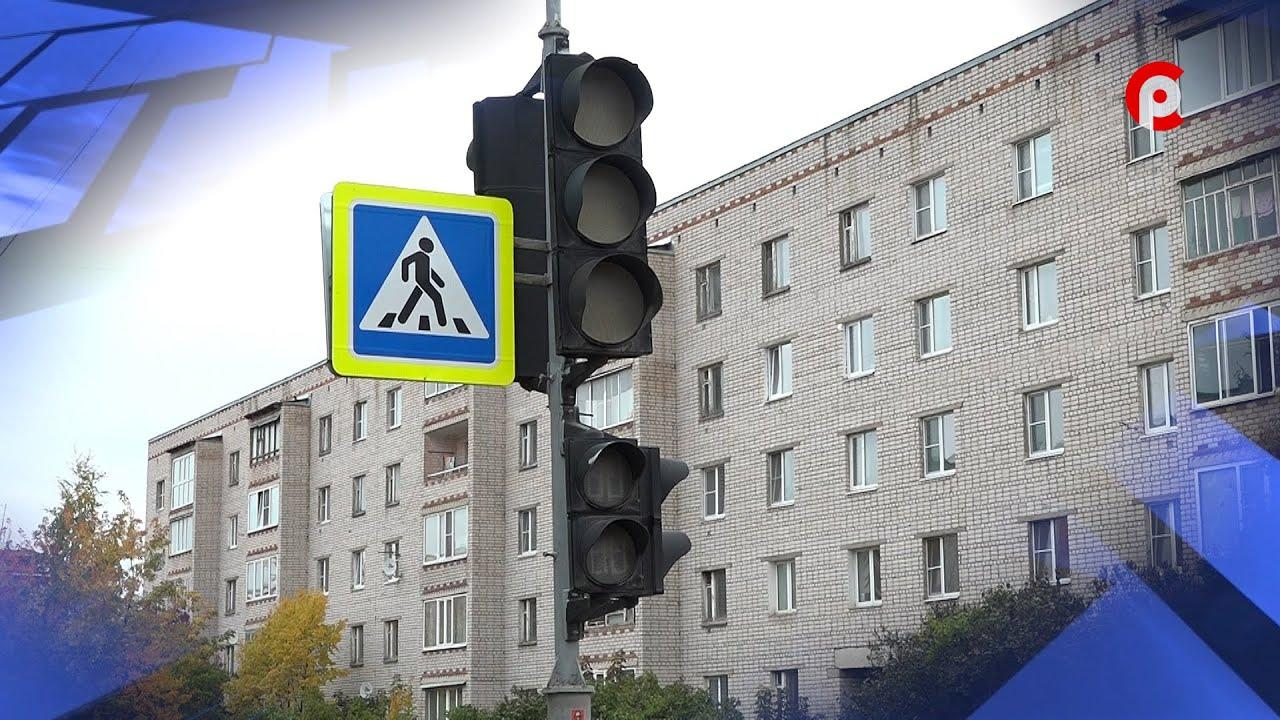off traffic light: (545, 52, 664, 356), (564, 438, 649, 593), (640, 446, 692, 594)
road_sign: (332, 182, 515, 385)
